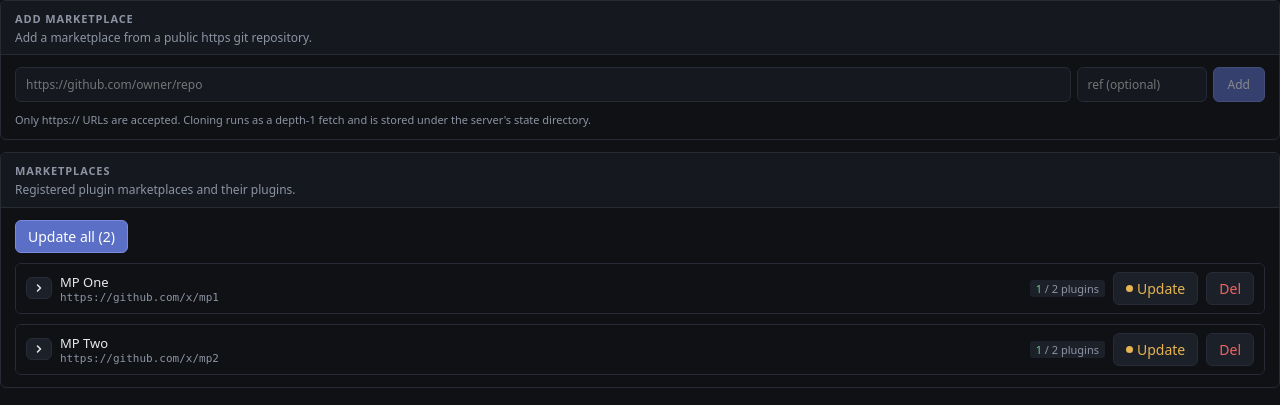
MarketplaceTab Update all › isolates a failing refresh and reports the partial result
This screenshot has width=1280, height=405.
Step 1. Click the button "Update all (2)" → (72, 236), box [15, 220, 128, 253]
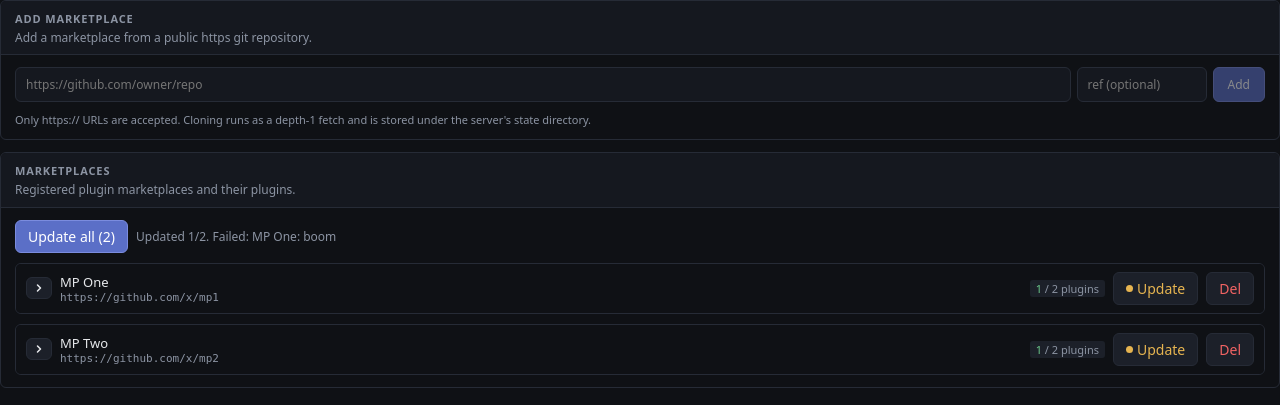
Result: the text "Updated 1/2. Failed: MP One: boom" is shown at [136, 228, 336, 245]
